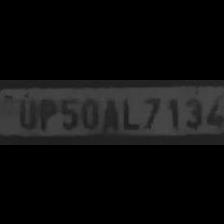0: (78, 94, 100, 130)
1: (162, 94, 180, 128)
3: (181, 94, 203, 128)
4: (203, 92, 223, 128)
5: (56, 93, 79, 129)
7: (140, 93, 162, 129)
A: (100, 94, 119, 130)
L: (117, 94, 139, 130)
P: (36, 94, 56, 130)
U: (14, 94, 36, 128)
